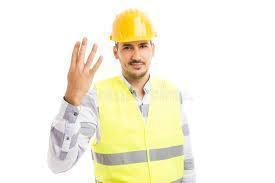helmet: (109, 8, 158, 40)
